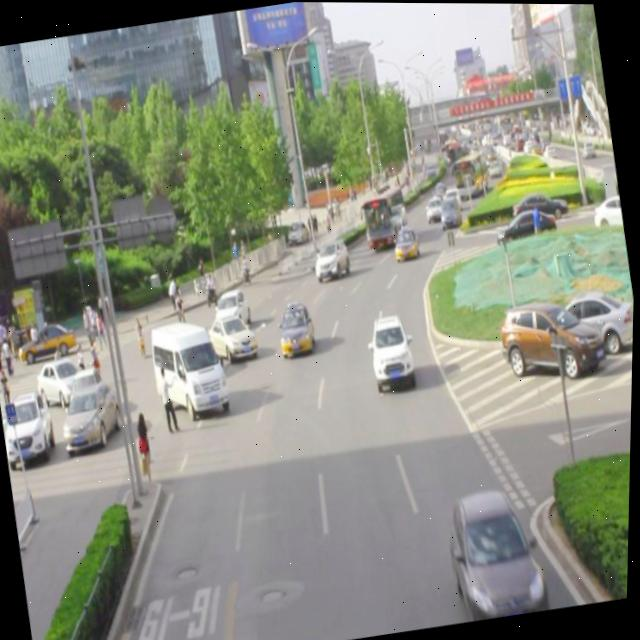car: (444, 479, 550, 622), (366, 309, 418, 385), (207, 308, 261, 366), (275, 299, 319, 357), (211, 284, 253, 336), (310, 235, 351, 282), (391, 223, 421, 260)
truck: (148, 312, 233, 418)
